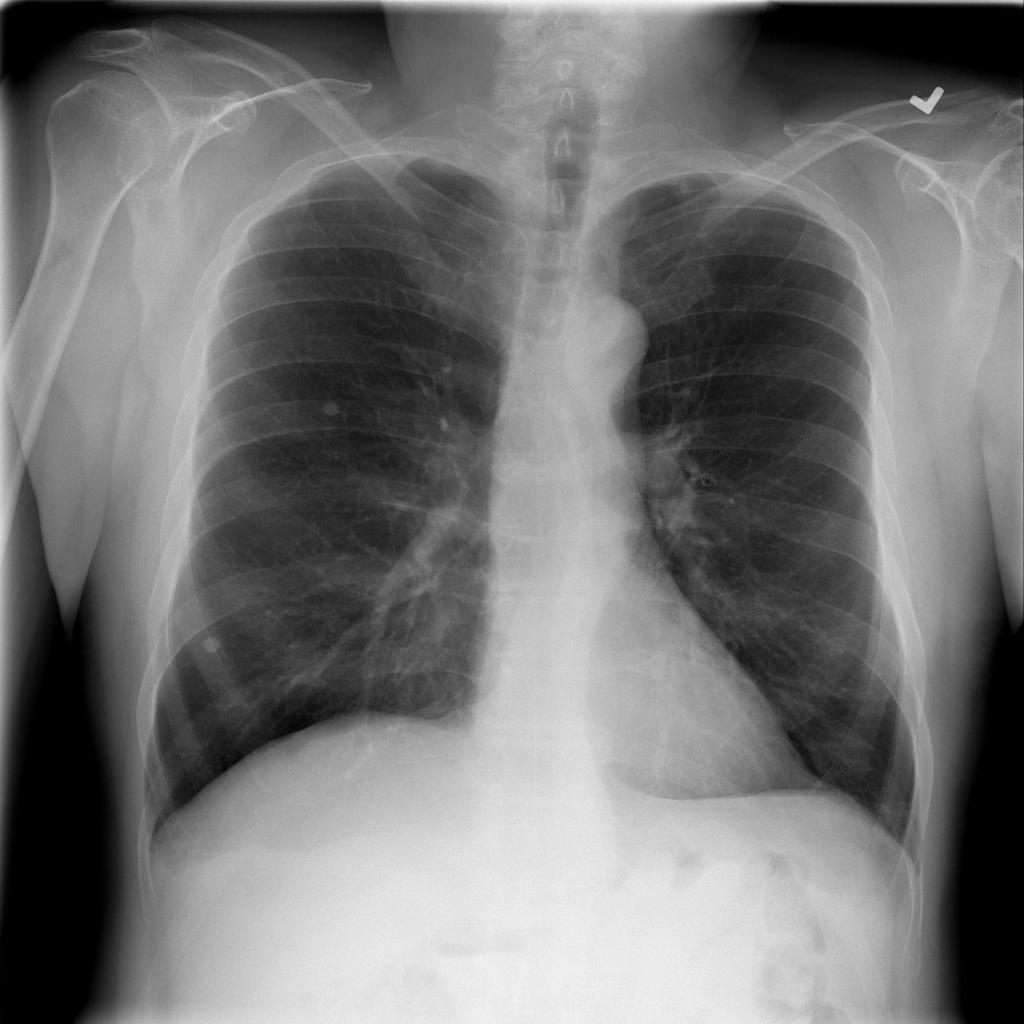nodule: (310, 391, 353, 425), (198, 628, 229, 658)
